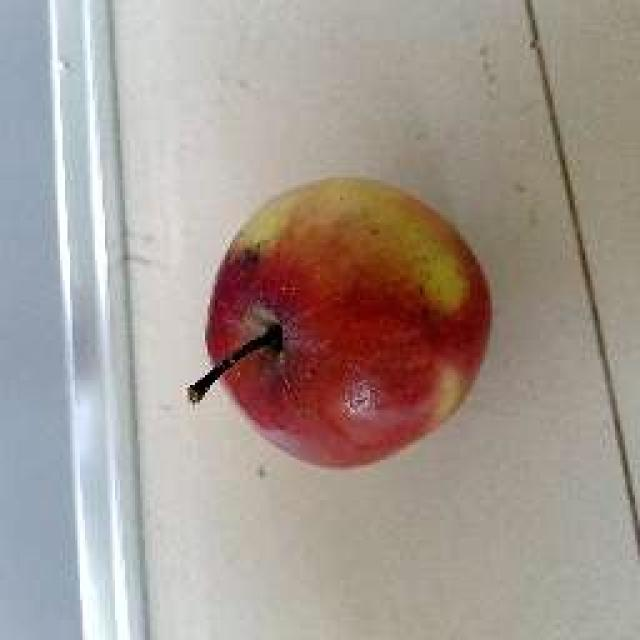Good_Apple: (185, 178, 492, 472)
